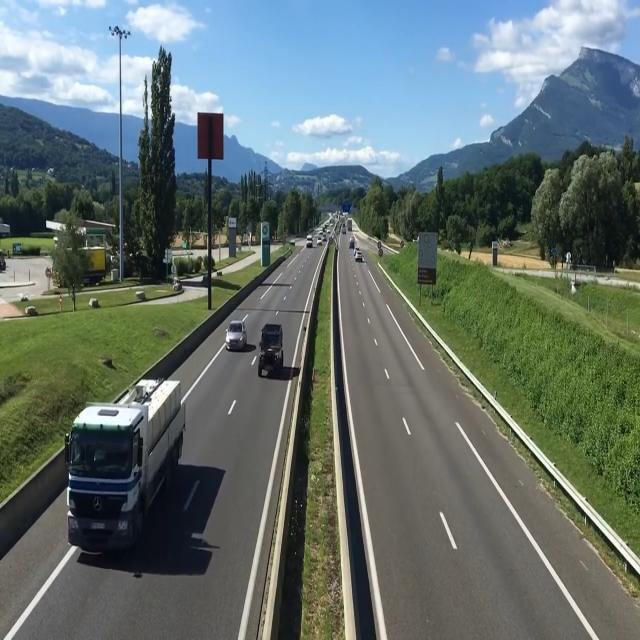car: (258, 320, 287, 380), (223, 315, 250, 355)
truck: (63, 400, 171, 555)
